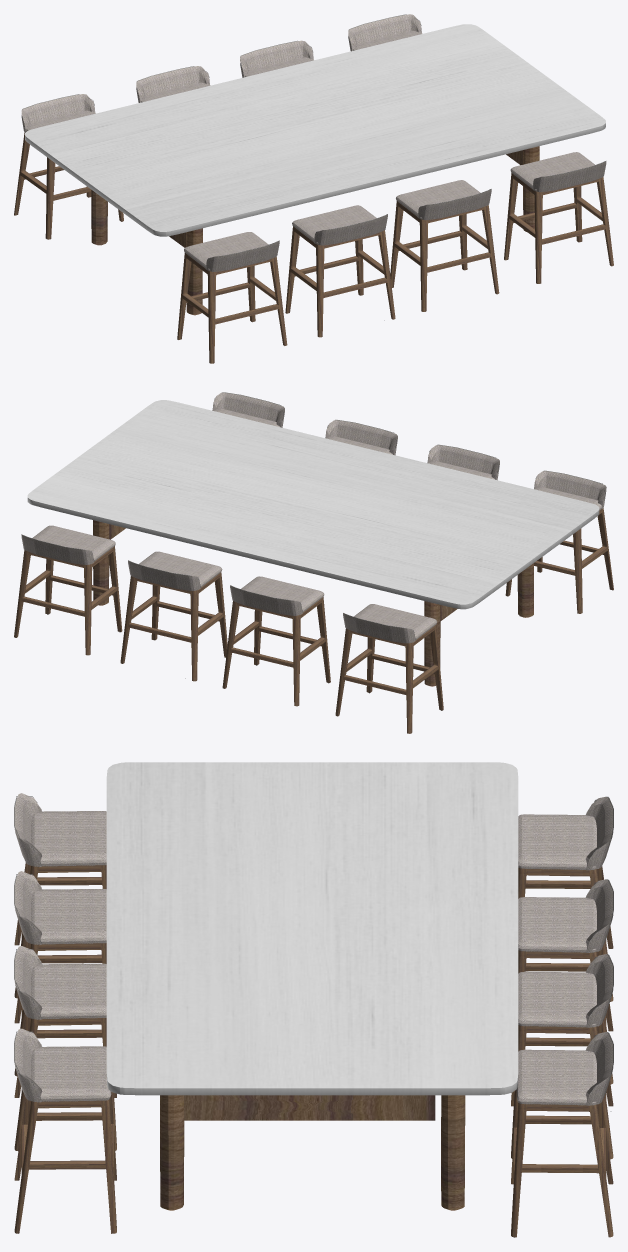
File: tablekit.obj
3 renders of one model, top to bottom at view 1: azimuth 30°, elevation 25°; view 2: azimuth 150°, elevation 25°; view 3: azimuth 270°, elevation 25°, orthographic. The views are drawn at different scales.
Parts seen in each view (by area): view 1: polySurface11; view 2: polySurface11; view 3: polySurface11.
Boxes of the visible parts, x1=… form: polySurface11: x1=14, y1=14, x2=613, y2=363; polySurface11: x1=14, y1=392, x2=613, y2=733; polySurface11: x1=14, y1=762, x2=613, y2=1237.
Size of the model in its own units: 3.64 by 0.8714 by 2.83.
11 materials, 10 textured.
